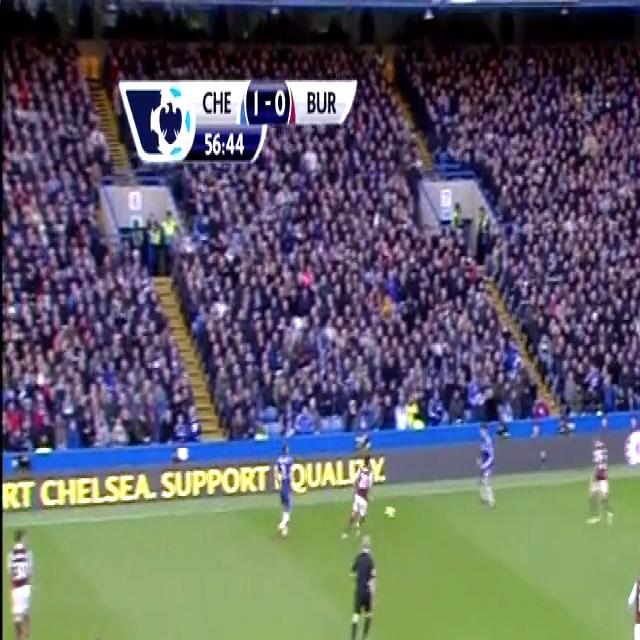ball: (383, 498, 397, 524)
referee: (343, 528, 381, 640)
soccer-player: (3, 519, 38, 640), (582, 428, 616, 536), (346, 445, 384, 540), (272, 439, 302, 547), (468, 415, 496, 515), (627, 560, 640, 640), (68, 627, 113, 640), (638, 485, 640, 583)
